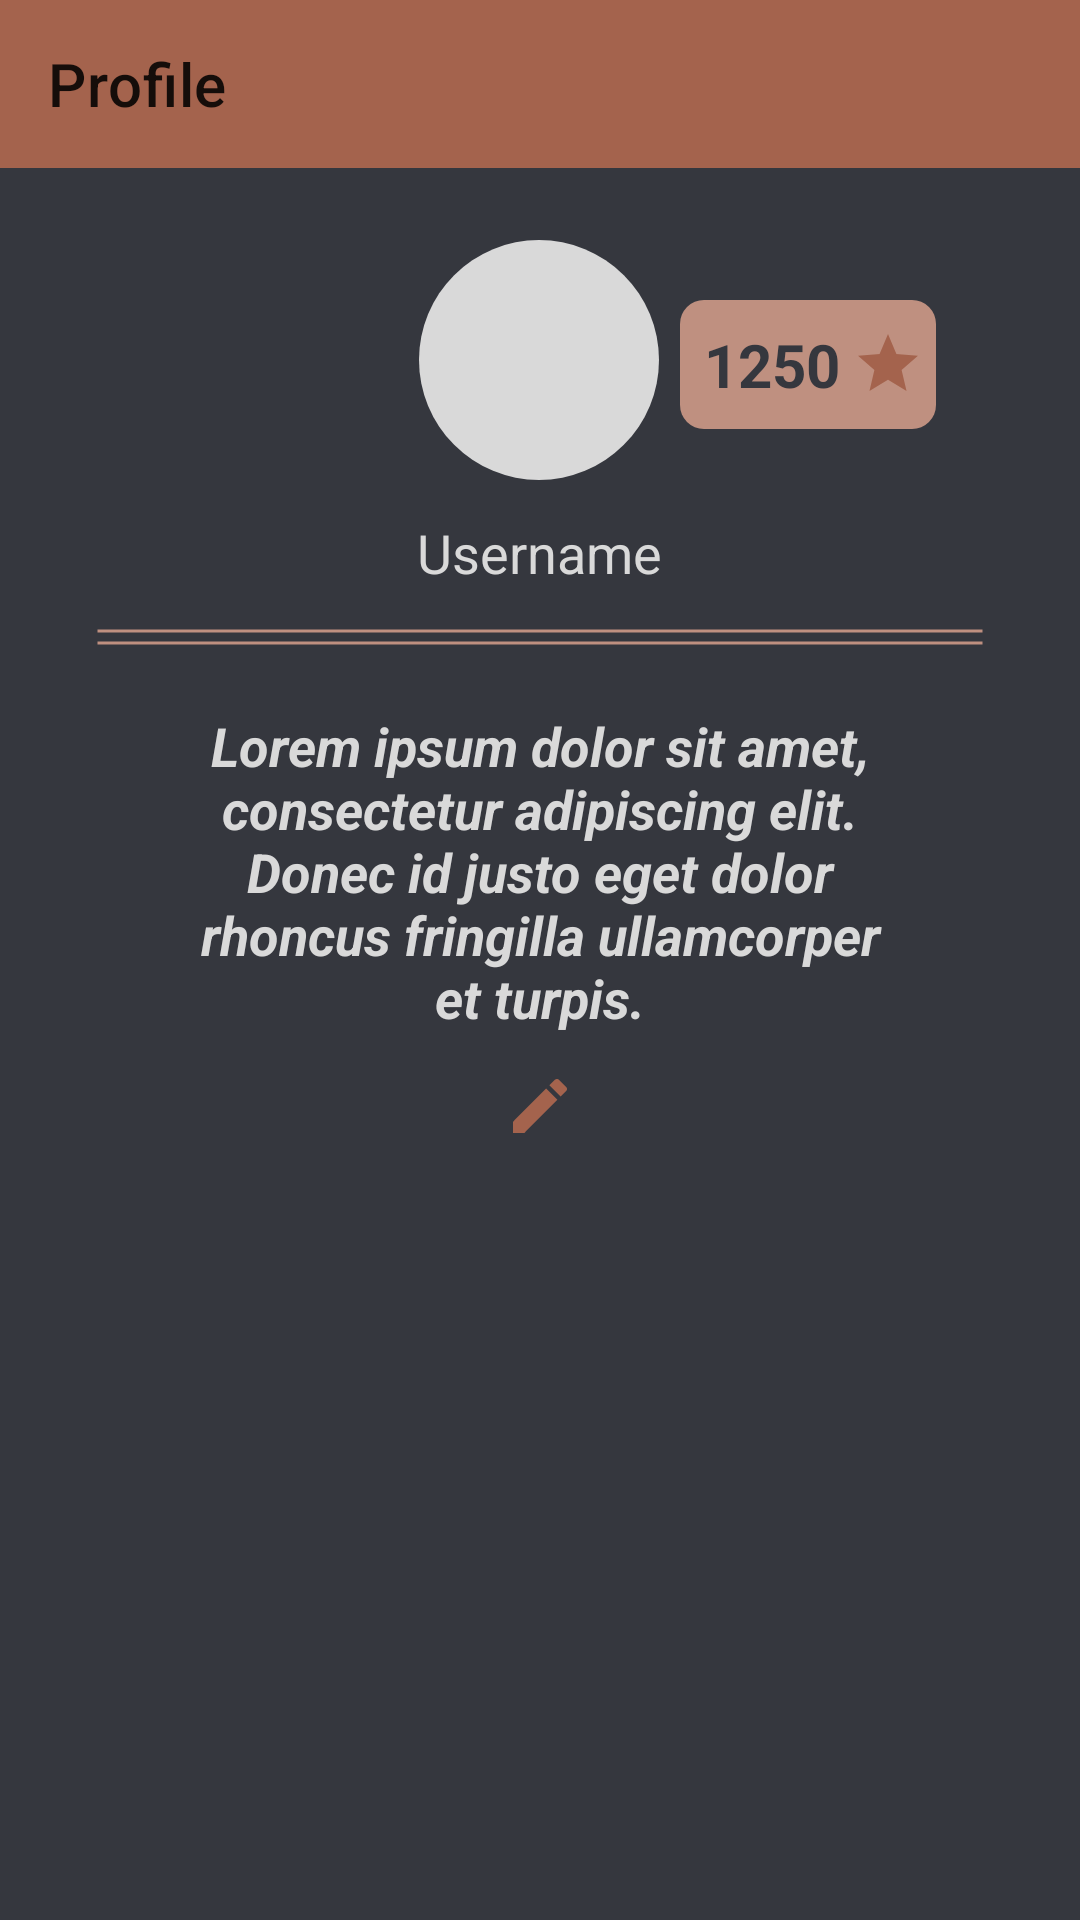

Icons on this 1080*1920 Android screen, each with the point to tap as (x,y):
edit: (540,1106)
star: (888,362)
